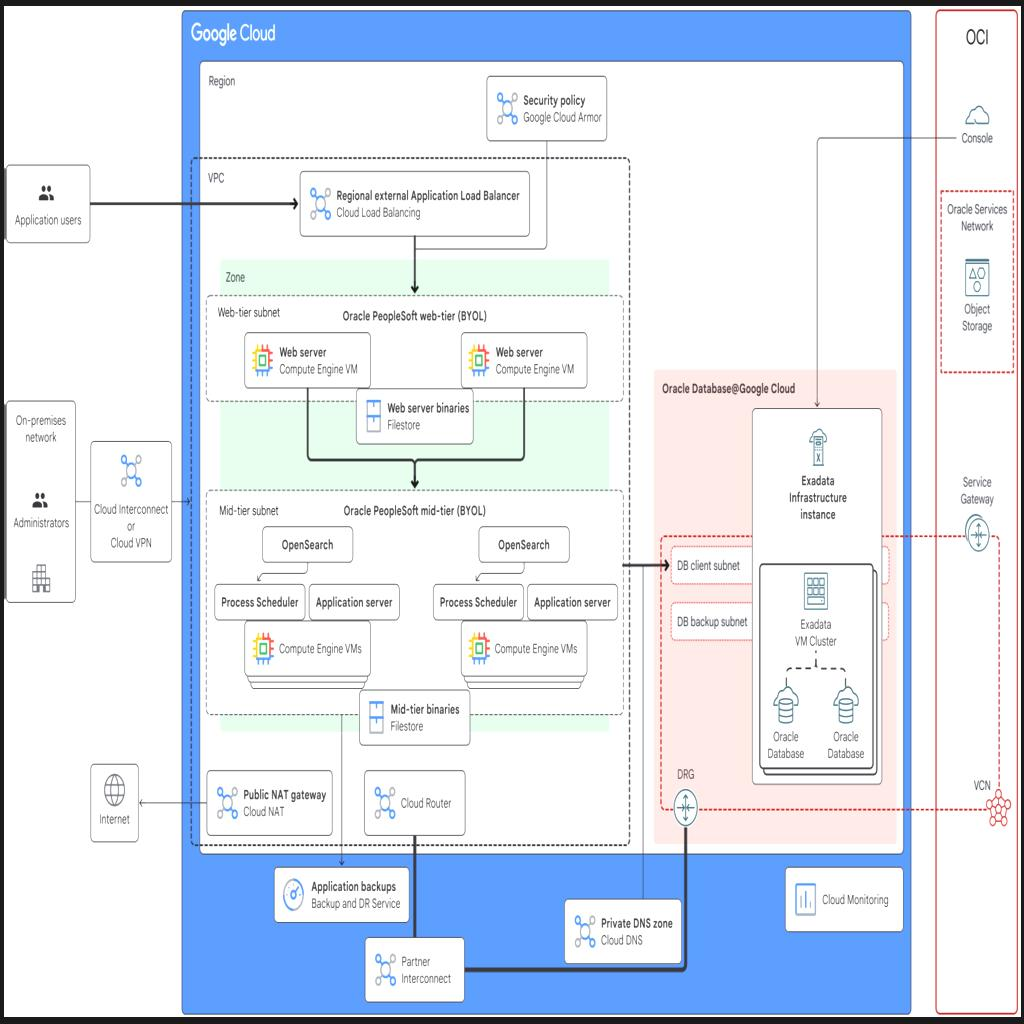actor: (6, 404, 82, 600), (7, 164, 97, 242), (90, 766, 137, 842)
api_gateway: (276, 170, 550, 236), (212, 770, 331, 838), (274, 864, 406, 922), (364, 770, 464, 838), (364, 931, 464, 990), (567, 897, 678, 950)
compute: (753, 408, 881, 544), (448, 606, 566, 684), (250, 606, 366, 684), (448, 337, 566, 390), (250, 337, 366, 390)
data_flow: (478, 890, 652, 896), (814, 197, 820, 335), (848, 586, 971, 592), (542, 562, 662, 568), (52, 200, 142, 206), (368, 831, 460, 836), (684, 804, 688, 916), (504, 389, 510, 461), (411, 717, 416, 794), (494, 717, 499, 794), (338, 717, 342, 794), (306, 389, 310, 461), (411, 236, 416, 276), (411, 441, 416, 477), (112, 802, 154, 806), (80, 489, 84, 515)
database_storage: (758, 552, 876, 804), (349, 394, 466, 446), (349, 692, 466, 744), (942, 264, 1004, 354)
network_security: (94, 440, 172, 564), (485, 74, 602, 141), (672, 786, 700, 828), (960, 511, 986, 554)
trust_boundary: (198, 18, 900, 1006), (213, 152, 602, 852), (656, 368, 892, 840), (221, 492, 594, 716), (932, 18, 1014, 1006), (221, 260, 594, 398), (934, 184, 1012, 373)
